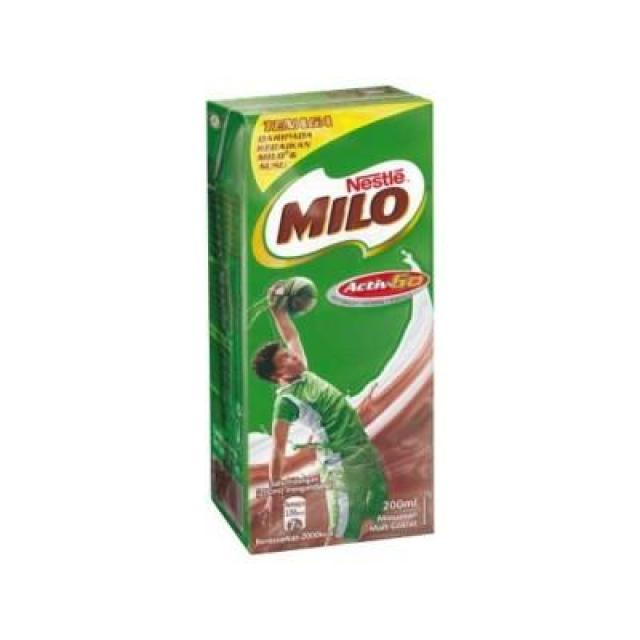drink carton: (208, 80, 434, 555)
